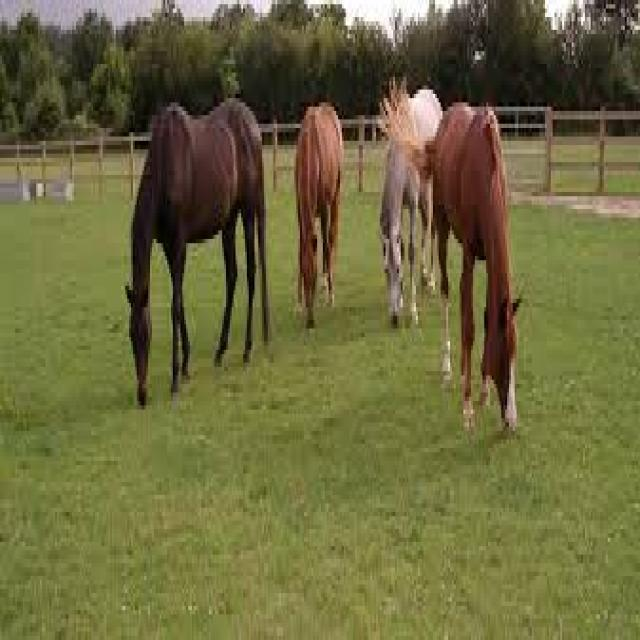horse: (121, 96, 272, 413), (429, 98, 540, 460), (370, 68, 436, 370), (291, 98, 347, 346)
